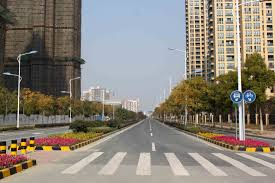strada: (85, 113, 225, 150)
striscie pedonali: (61, 152, 268, 174)
